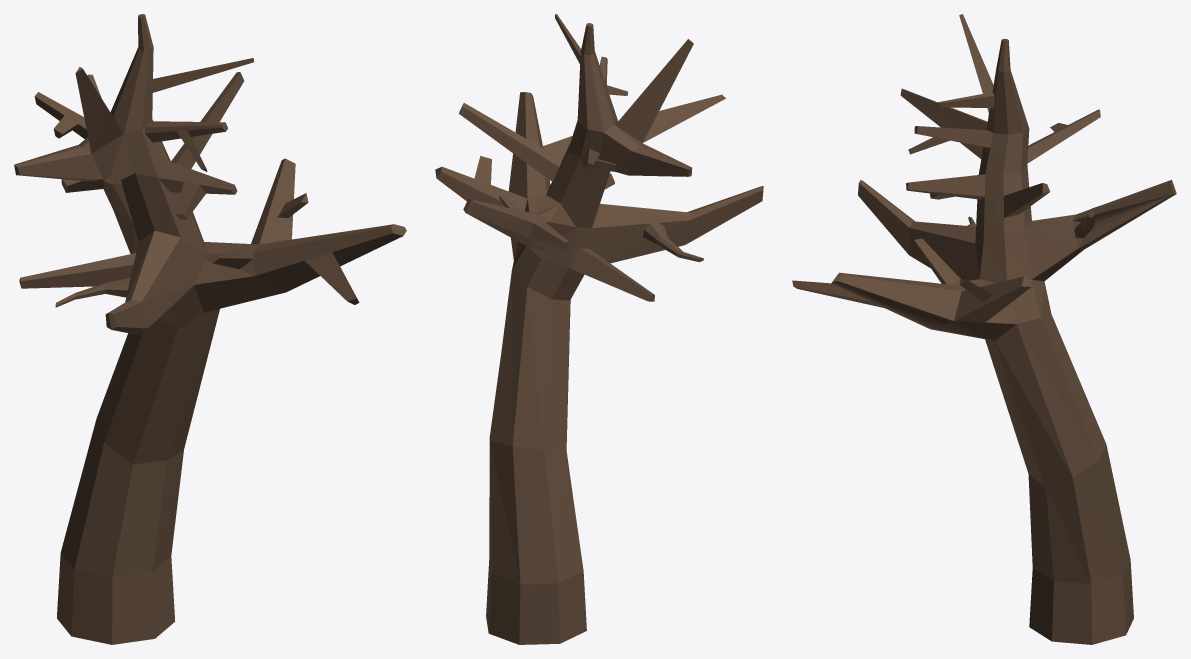
The model's file is Vegetation_Tree_Trunk_06.fbx.
The picture shows the model from 3 angles, left to right: view 1: azimuth 30°, elevation 25°; view 2: azimuth 150°, elevation 25°; view 3: azimuth 270°, elevation 25°; orthographic projection. The views are drawn at different scales.
Visible parts, largest first — view 1: Vegetation_Tree_Trunk_06; view 2: Vegetation_Tree_Trunk_06; view 3: Vegetation_Tree_Trunk_06.
Part boxes in pixels (x1=…): Vegetation_Tree_Trunk_06: x1=14, y1=14, x2=406, y2=644; Vegetation_Tree_Trunk_06: x1=435, y1=14, x2=763, y2=644; Vegetation_Tree_Trunk_06: x1=792, y1=14, x2=1176, y2=644.
Size of the model in its own units: 2420 by 5097 by 3085.
